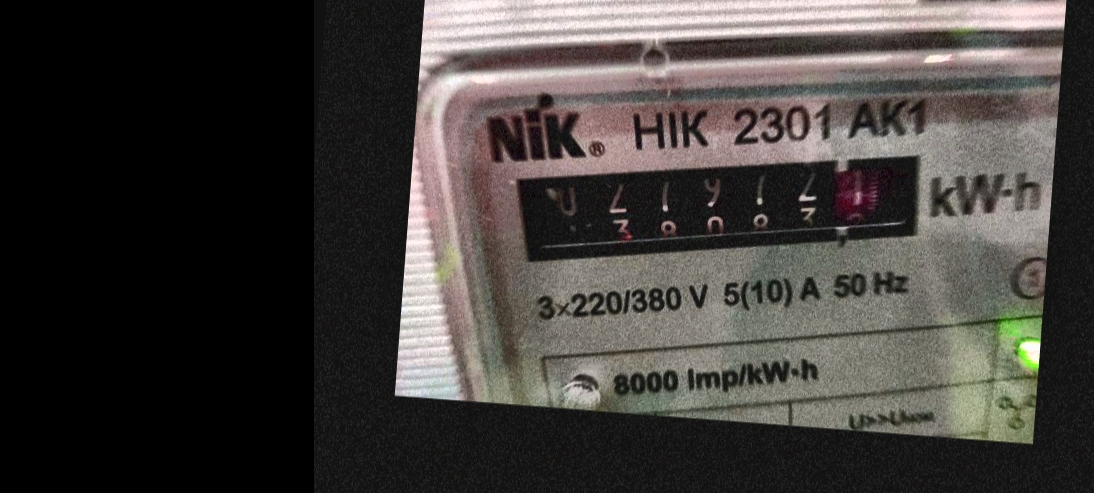0: (550, 178, 581, 216)
1: (845, 163, 870, 207)
2: (600, 172, 631, 213), (791, 163, 822, 202)
7: (743, 164, 772, 207), (650, 173, 676, 212)
9: (697, 170, 726, 207)
screen: (492, 113, 954, 300)
